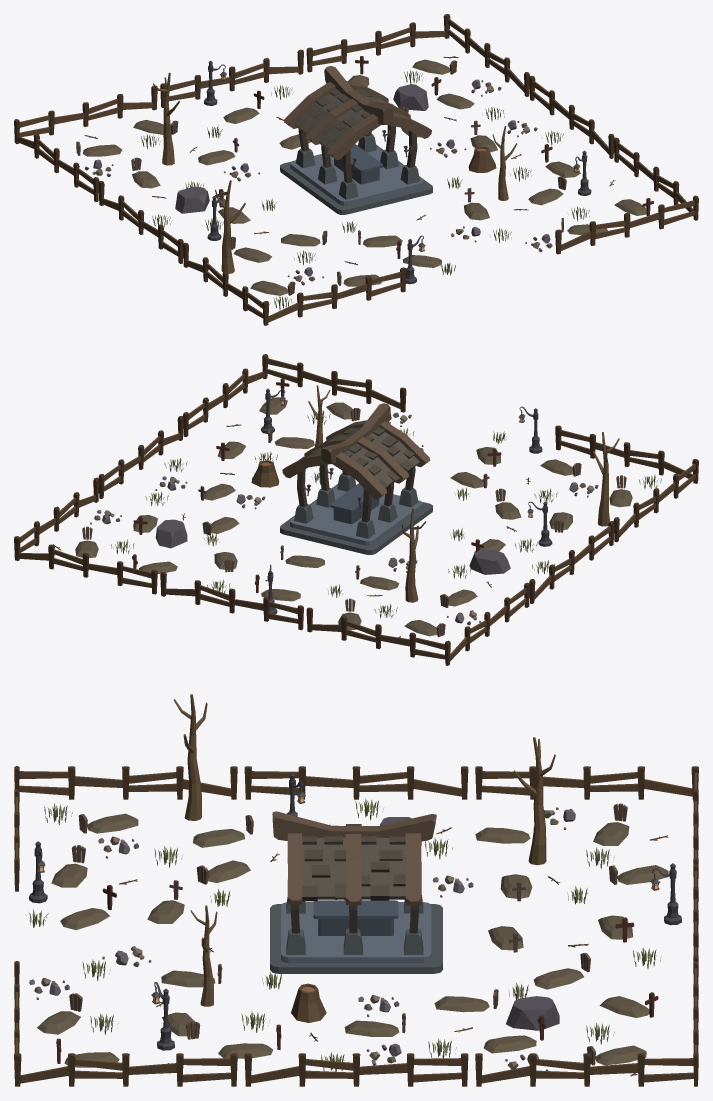
The model's file is Building_Graveyard_Square st3.fbx.
The picture shows the model from 3 angles, top to bottom: view 1: azimuth 30°, elevation 25°; view 2: azimuth 150°, elevation 25°; view 3: azimuth 270°, elevation 25°; orthographic projection. The views are drawn at different scales.
Parts seen in each view (by area): view 1: Building_Graveyard_Square st3; view 2: Building_Graveyard_Square st3; view 3: Building_Graveyard_Square st3.
Part boxes in pixels (x1,y1,x2,y2): Building_Graveyard_Square st3: (14, 14, 698, 325); Building_Graveyard_Square st3: (14, 354, 698, 665); Building_Graveyard_Square st3: (14, 694, 698, 1086).
Bounding box in the file's own units: 594 × 124 × 594.
